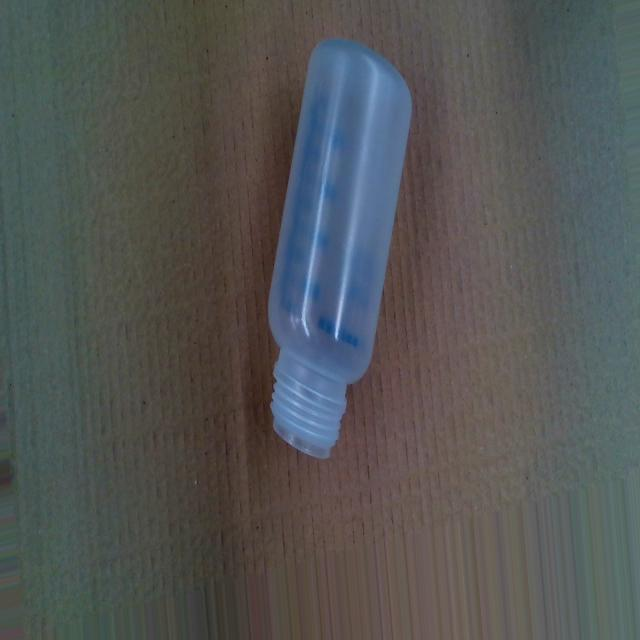bottle: (267, 34, 412, 470)
